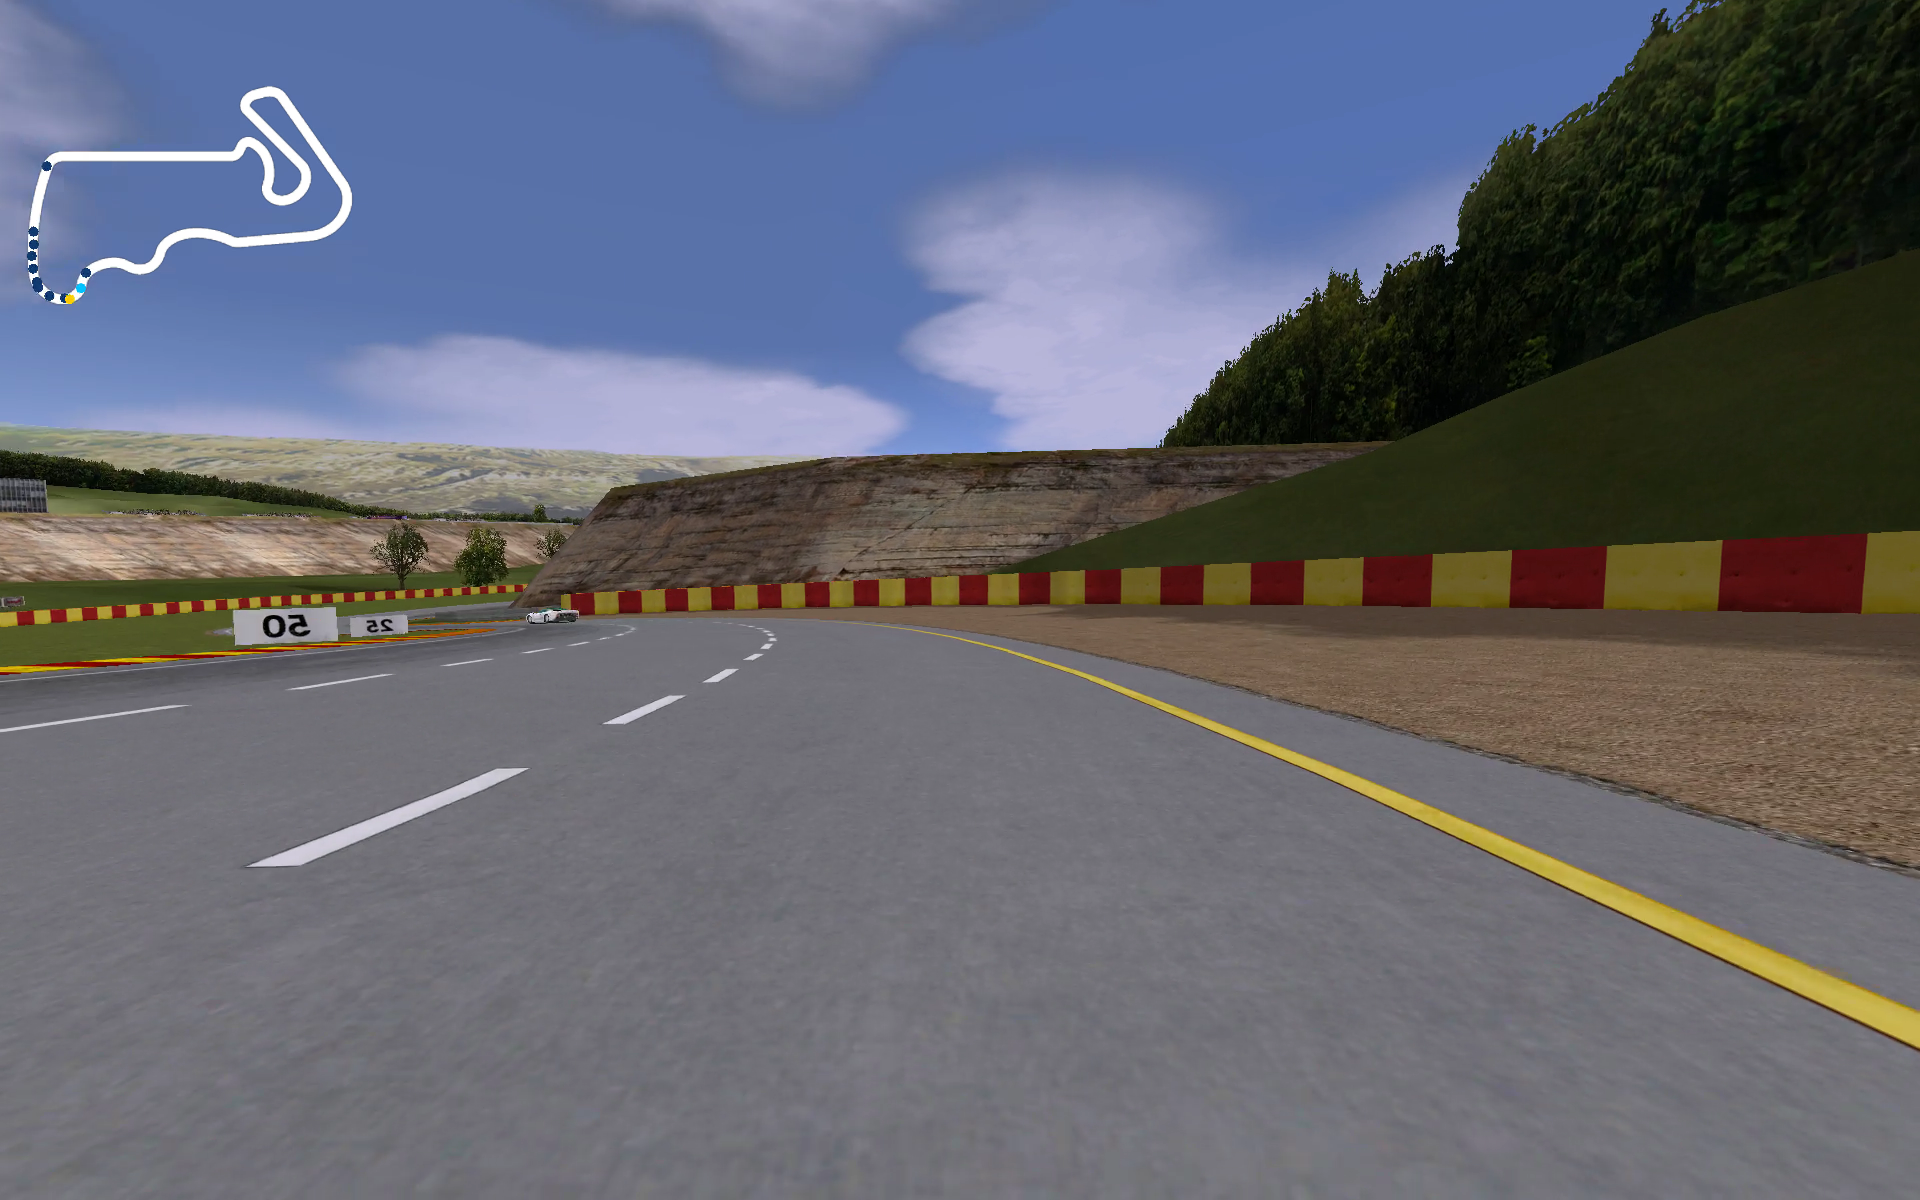car: (525, 603, 581, 624)
